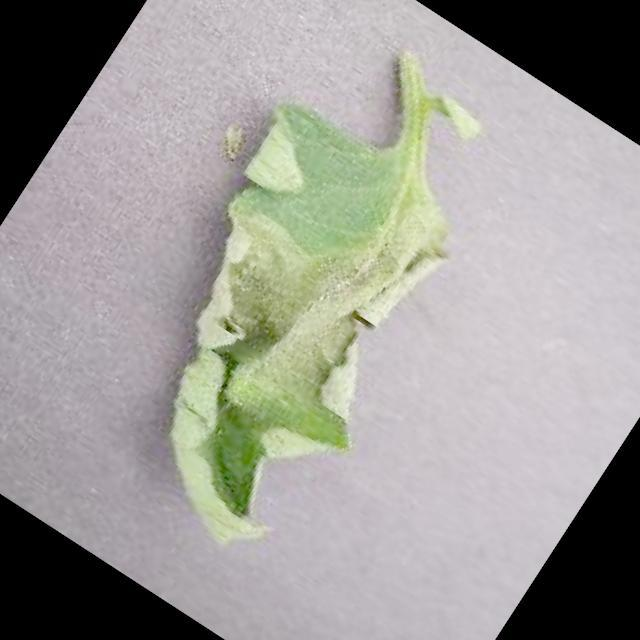Tomato late blight leaf: (48, 75, 504, 582)
